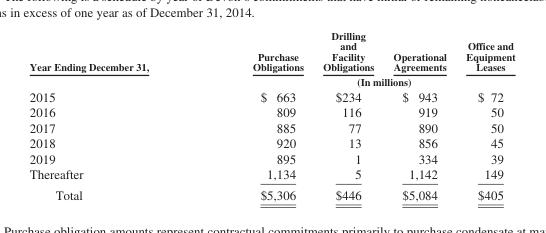table: (28, 29, 514, 201)
table column: (28, 29, 200, 201), (200, 29, 312, 201), (382, 29, 455, 201), (312, 29, 382, 201), (455, 29, 514, 201)
table column header: (28, 29, 514, 88)
table row: (28, 29, 514, 74), (28, 166, 514, 184), (28, 184, 514, 201), (28, 88, 514, 104), (28, 119, 514, 135), (28, 150, 514, 166), (28, 104, 514, 119), (28, 135, 514, 150), (28, 74, 514, 88)
table spanning cell: (28, 29, 200, 88), (200, 74, 514, 88)
